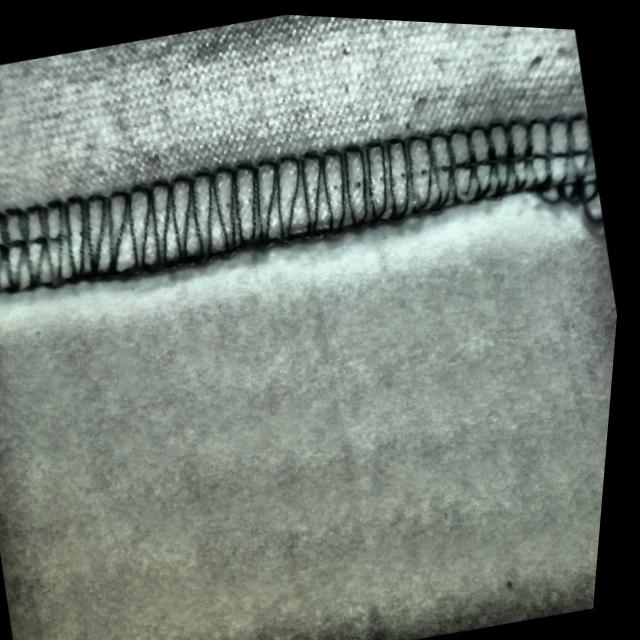Stitch: (517, 97, 614, 231)
